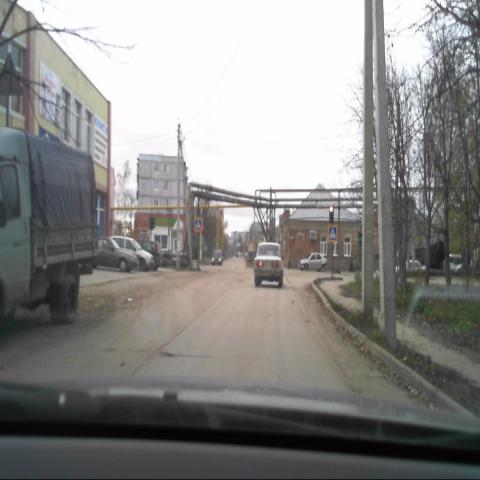5_19_1: (328, 224, 338, 242), (193, 216, 202, 231)
